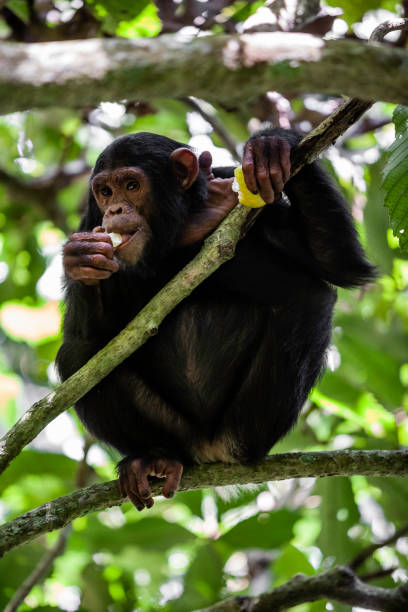chimpanzee: (67, 136, 218, 277)
